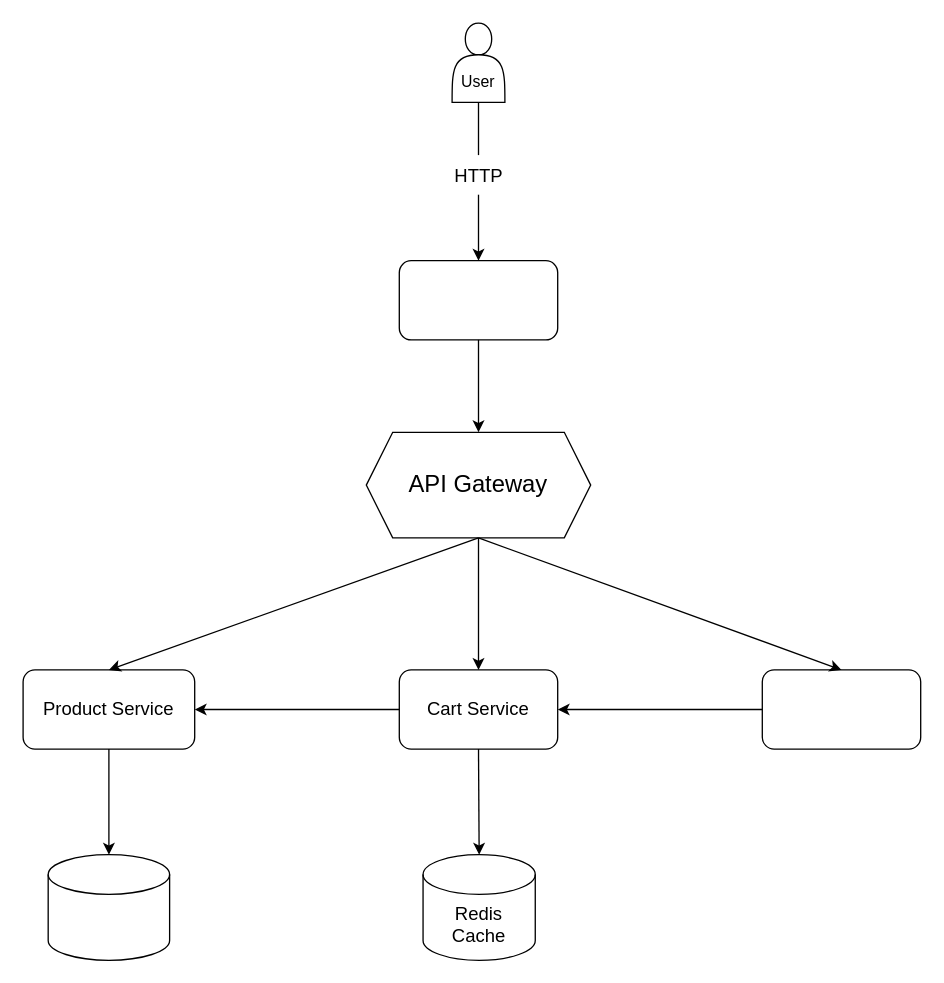
Image size: 944x983. Some labels were removed from this diagram. Each missing label, with the centre of its shape:
Front-end: point 478,299
Order Service: point 841,709
Redis Database: point 108,906
